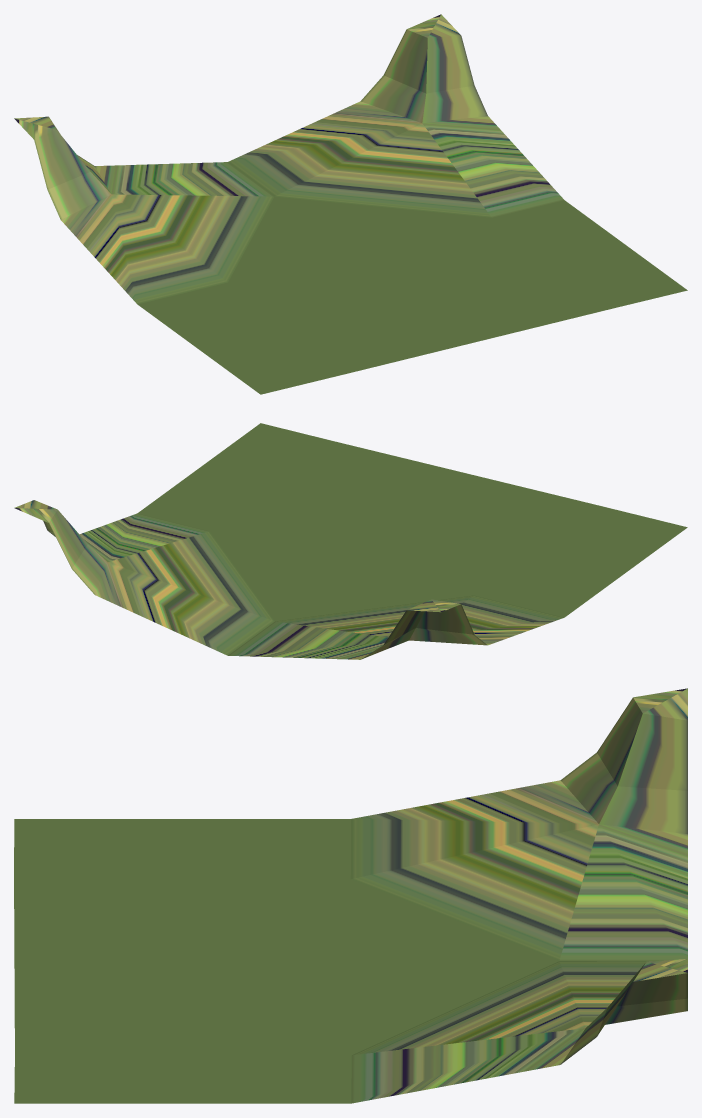
File: Mesh_WaterTile2InsideCornersAdjacent.fbx
3 views of the same model, one above another, from view 1: azimuth 30°, elevation 25°; view 2: azimuth 150°, elevation 25°; view 3: azimuth 270°, elevation 25° (orthographic). The views are drawn at different scales.
Visible parts, largest first — view 1: WaterTile2InsideCornersAdjacent; view 2: WaterTile2InsideCornersAdjacent; view 3: WaterTile2InsideCornersAdjacent.
Part boxes in pixels (bbox=[...]): WaterTile2InsideCornersAdjacent: bbox=[14, 14, 687, 394]; WaterTile2InsideCornersAdjacent: bbox=[14, 423, 687, 659]; WaterTile2InsideCornersAdjacent: bbox=[14, 688, 687, 1103].
Size of the model in its own units: 10000 by 2140 by 10005.
